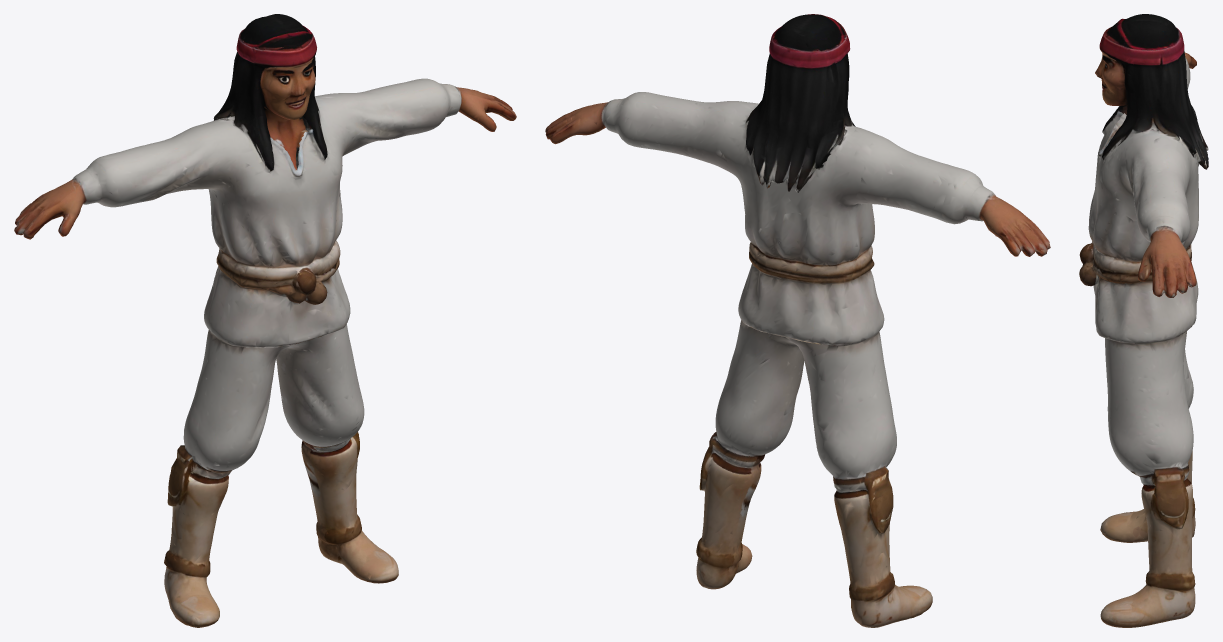
Rendered from poblador_3.glb.
3 views of the same model, side by side, from view 1: azimuth 30°, elevation 25°; view 2: azimuth 150°, elevation 25°; view 3: azimuth 270°, elevation 25° (orthographic). The views are drawn at different scales.
Parts seen in each view (by area): view 1: poblador_3; view 2: poblador_3; view 3: poblador_3.
Boxes of the visible parts, left/top/right/bottom form: poblador_3: left=14, top=14, right=516, bottom=627; poblador_3: left=545, top=14, right=1050, bottom=627; poblador_3: left=1079, top=14, right=1208, bottom=627.
Size of the model in its own units: 1.55 by 1.7 by 0.3563.
Materials: 1 (1 with a texture image).
